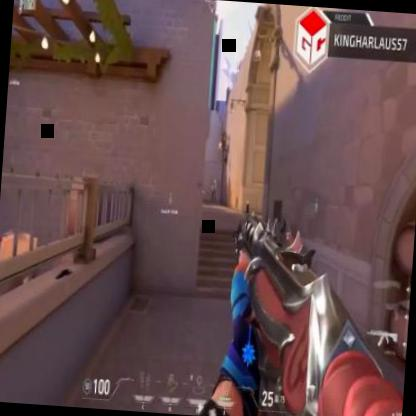enemy: (210, 178, 217, 202)
enemy_head: (212, 179, 216, 185)
